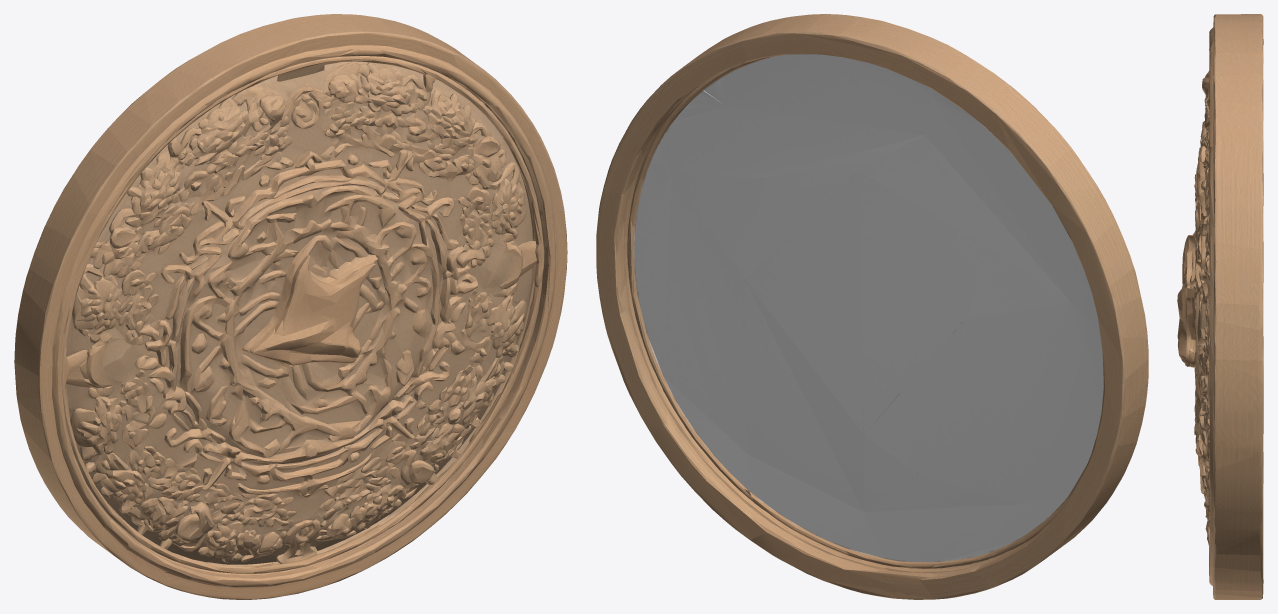
3 renders of one model, left to right at view 1: azimuth 30°, elevation 25°; view 2: azimuth 150°, elevation 25°; view 3: azimuth 270°, elevation 25°, orthographic. The views are drawn at different scales.
Size of the model in its own units: 1.9 by 1.9 by 0.28.
1 material, 1 textured.
